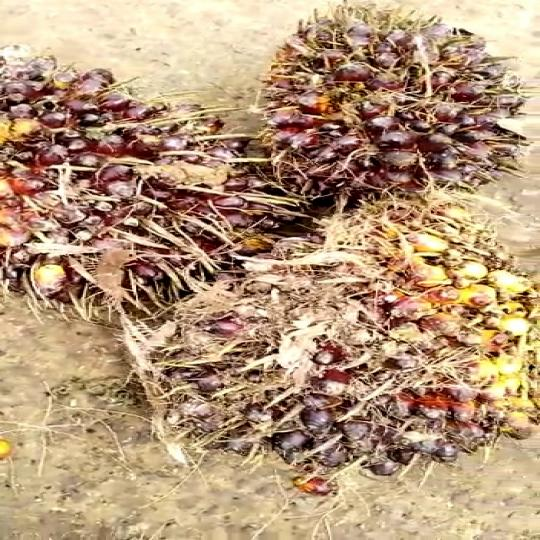kurang masak: (166, 208, 540, 484), (0, 45, 265, 316), (240, 0, 540, 216)
